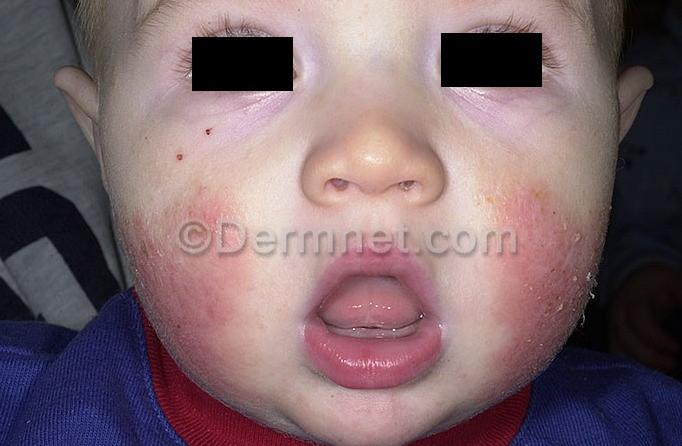Eritema 2: (106, 168, 265, 401), (470, 153, 601, 389)
edema 2: (115, 174, 265, 396), (473, 155, 599, 383)
excoriacion 1: (474, 153, 602, 390)
exudacion 2: (111, 171, 276, 403), (471, 151, 606, 390)
xerosis 2: (114, 171, 272, 397), (473, 153, 601, 391)
